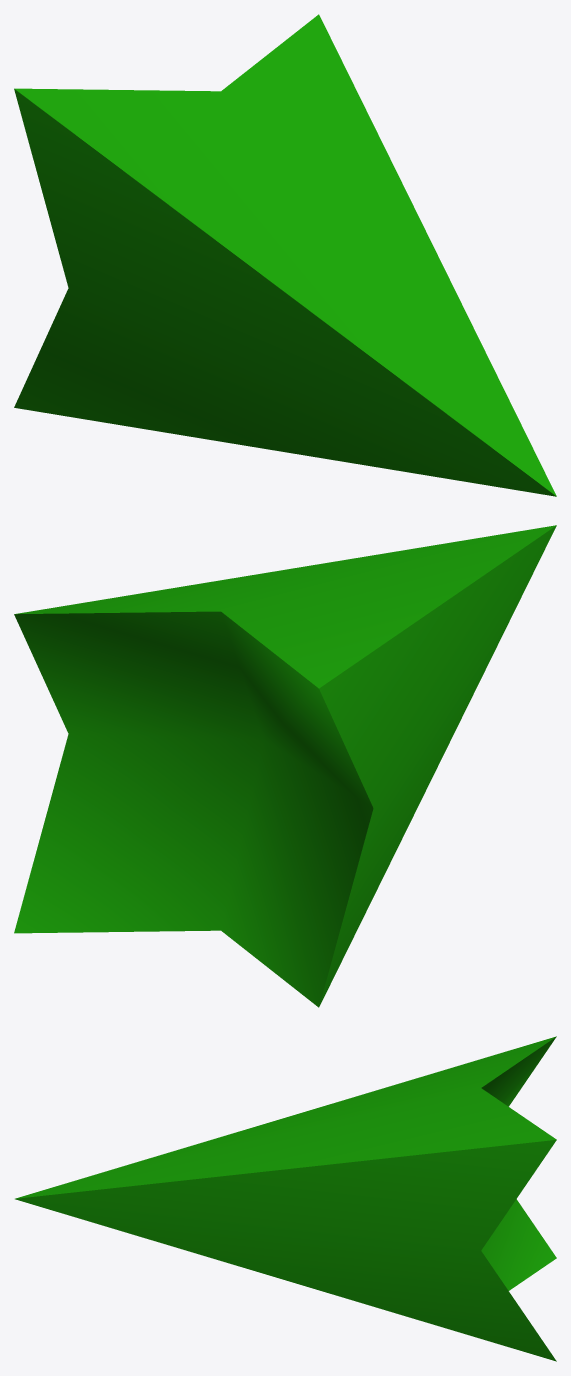
File: HintArrow.FBX
The picture shows the model from 3 angles, top to bottom: view 1: azimuth 30°, elevation 25°; view 2: azimuth 150°, elevation 25°; view 3: azimuth 270°, elevation 25°; orthographic projection. The views are drawn at different scales.
Parts seen in each view (by area): view 1: Pyramid001; view 2: Pyramid001; view 3: Pyramid001.
Part boxes in pixels (x1,y1,x2,y2): Pyramid001: (14, 14, 556, 496); Pyramid001: (14, 525, 556, 1007); Pyramid001: (15, 1036, 556, 1361).
Bounding box in the file's own units: 3 × 3 × 6.65.
